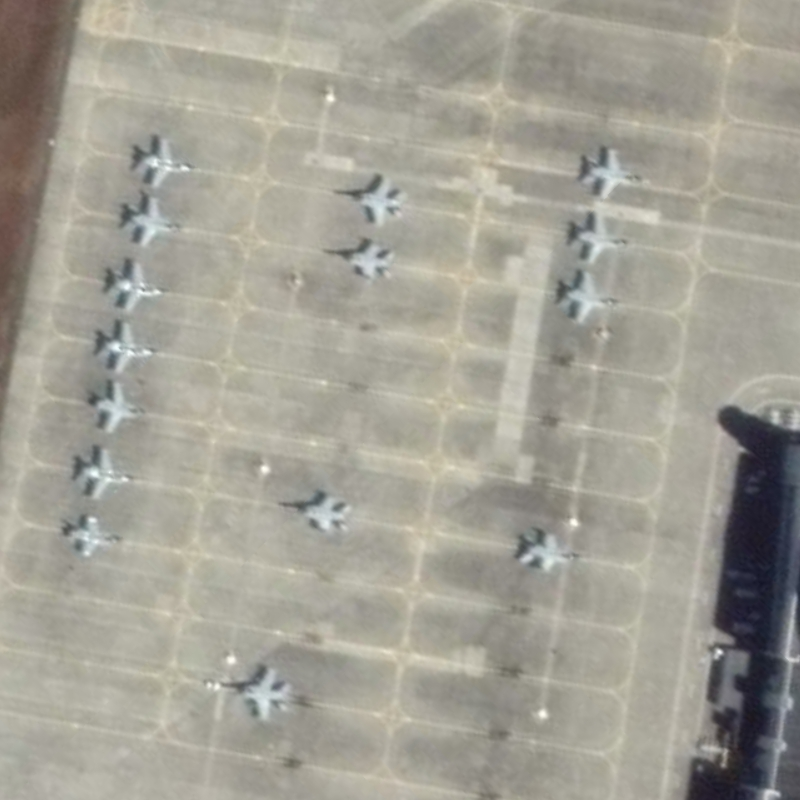A16: (208, 655, 296, 724), (575, 136, 658, 209), (508, 517, 594, 585), (549, 261, 630, 332), (111, 189, 195, 254), (273, 477, 357, 541), (70, 441, 150, 506), (560, 203, 635, 272), (54, 504, 137, 566), (129, 125, 202, 194), (88, 314, 165, 378), (332, 166, 410, 229), (322, 227, 399, 289), (87, 376, 160, 440), (96, 253, 171, 315)
